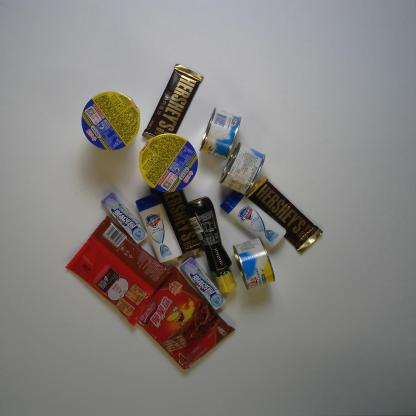Candy: (101, 191, 149, 246), (180, 256, 228, 310)
Canned Food: (218, 141, 266, 196), (199, 106, 243, 161), (232, 236, 276, 290)
Chocolate: (244, 173, 324, 255), (142, 62, 205, 141), (148, 183, 206, 264)
Dessert: (64, 214, 176, 330), (133, 265, 237, 371)
Instant Noodles: (80, 90, 142, 152), (138, 132, 200, 194)
Personal Hygiene: (219, 190, 287, 251), (135, 193, 184, 263)
Seasoner: (184, 195, 237, 294)
